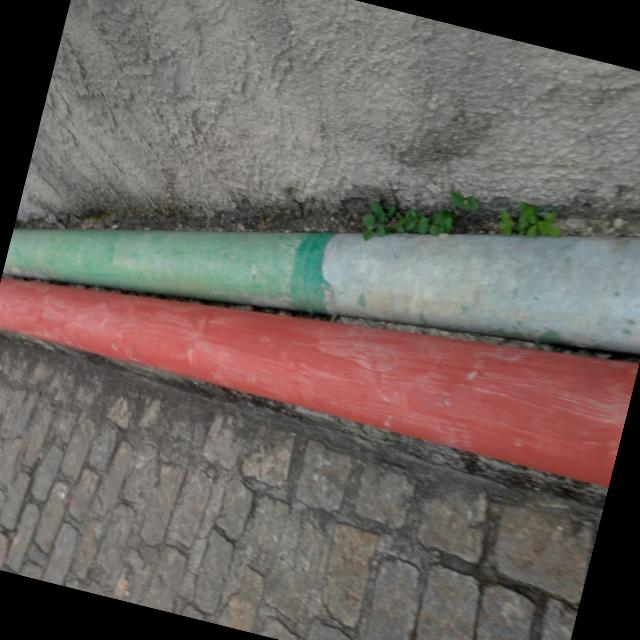gas: (2, 76, 640, 426), (0, 205, 639, 493)
